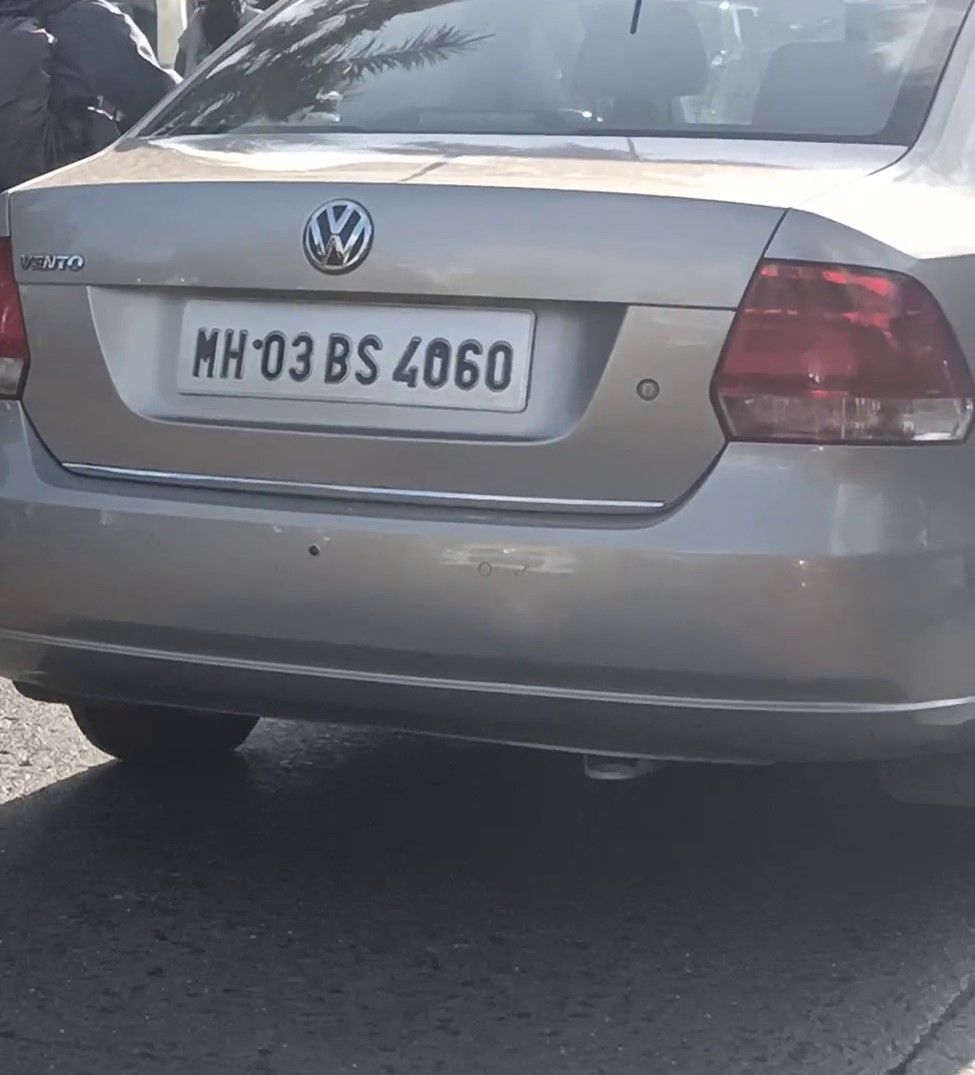MH03BS4060: (174, 298, 541, 412)
